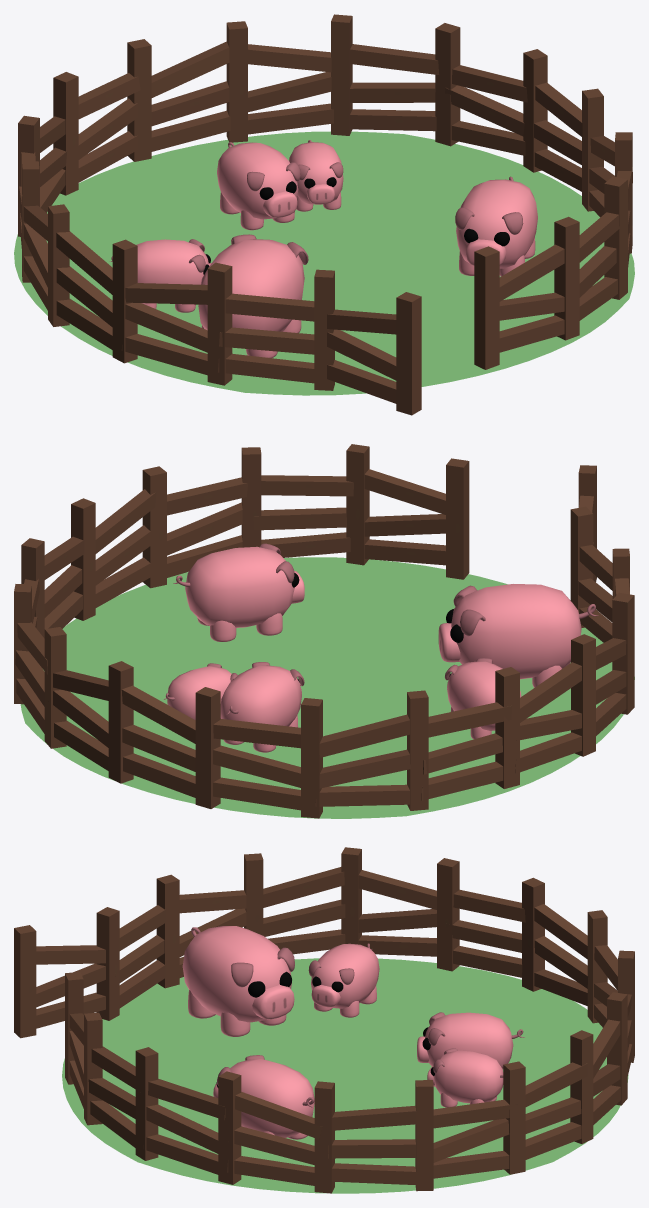
The model's file is PenSetup.fbx.
The picture shows the model from 3 angles, top to bottom: view 1: azimuth 30°, elevation 25°; view 2: azimuth 150°, elevation 25°; view 3: azimuth 270°, elevation 25°; orthographic projection. The views are drawn at different scales.
Parts seen in each view (by area): view 1: PenSetup; view 2: PenSetup; view 3: PenSetup.
Boxes of the visible parts, x1,y1,x2,y2 form: PenSetup: (14, 14, 634, 415); PenSetup: (14, 444, 634, 818); PenSetup: (14, 847, 634, 1193).
Size of the model in its own units: 240 by 49.71 by 260.
2 materials, 2 textured.
